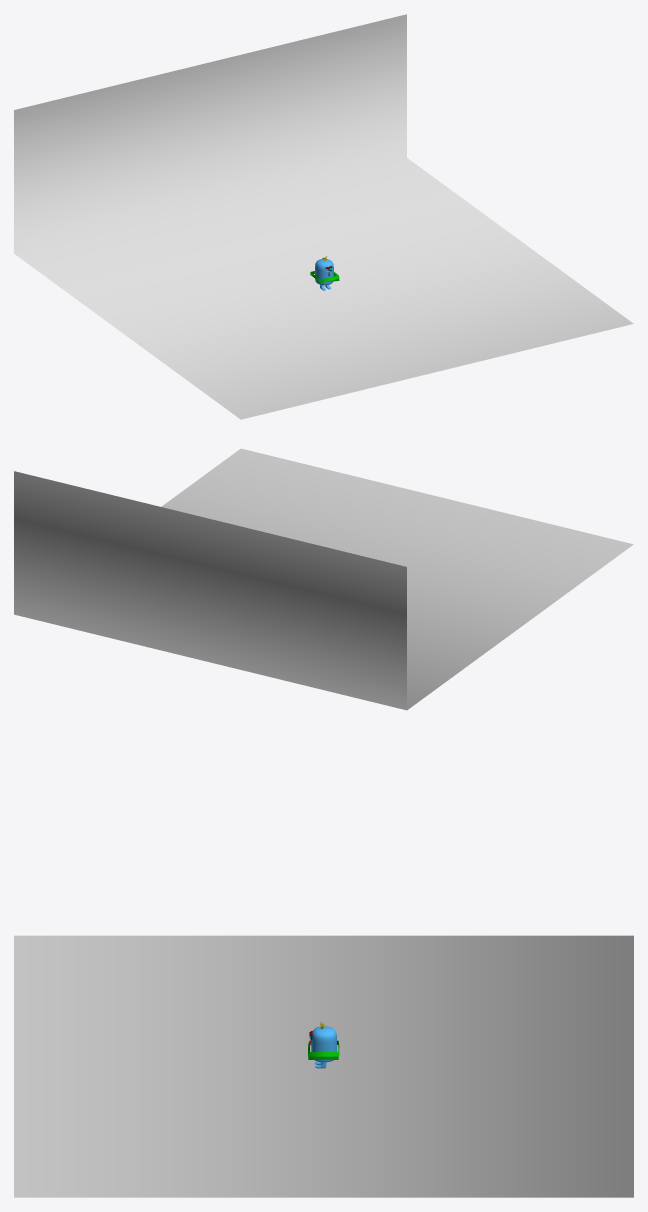
The model's file is Portfolio_mascot.glb.
The picture shows the model from 3 angles, top to bottom: view 1: azimuth 30°, elevation 25°; view 2: azimuth 150°, elevation 25°; view 3: azimuth 270°, elevation 25°; orthographic projection. The views are drawn at different scales.
Parts seen in each view (by area): view 1: Plane.001; view 2: Plane.001; view 3: Plane.001, Cube.
Part boxes in pixels (left/top/right/bottom): Plane.001: left=14, top=14, right=633, bottom=419; Plane.001: left=14, top=448, right=633, bottom=710; Plane.001: left=14, top=935, right=633, bottom=1197; Cube: left=311, top=1026, right=336, bottom=1068.
Bounding box in the file's own units: 20.15 × 7.03 × 20.15.
1 material, 1 textured.
